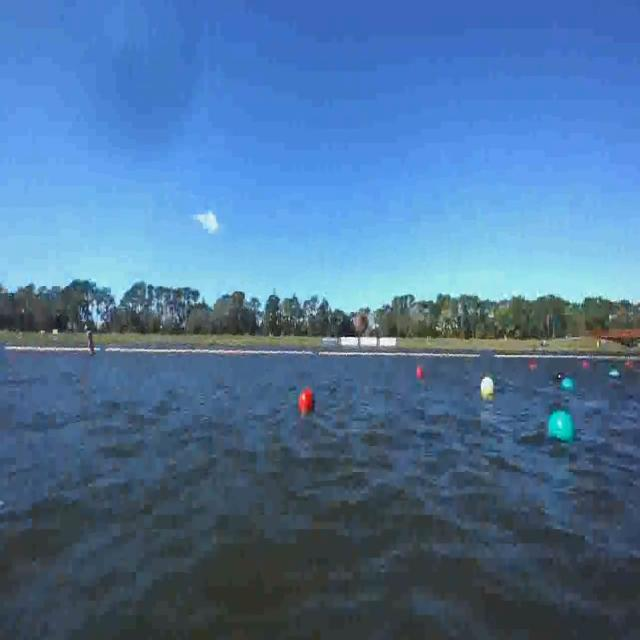green-buoy: (547, 411, 576, 443), (561, 379, 575, 391)
red-buoy: (299, 387, 313, 413), (418, 365, 426, 380)
yellow-buoy: (482, 375, 496, 395)
